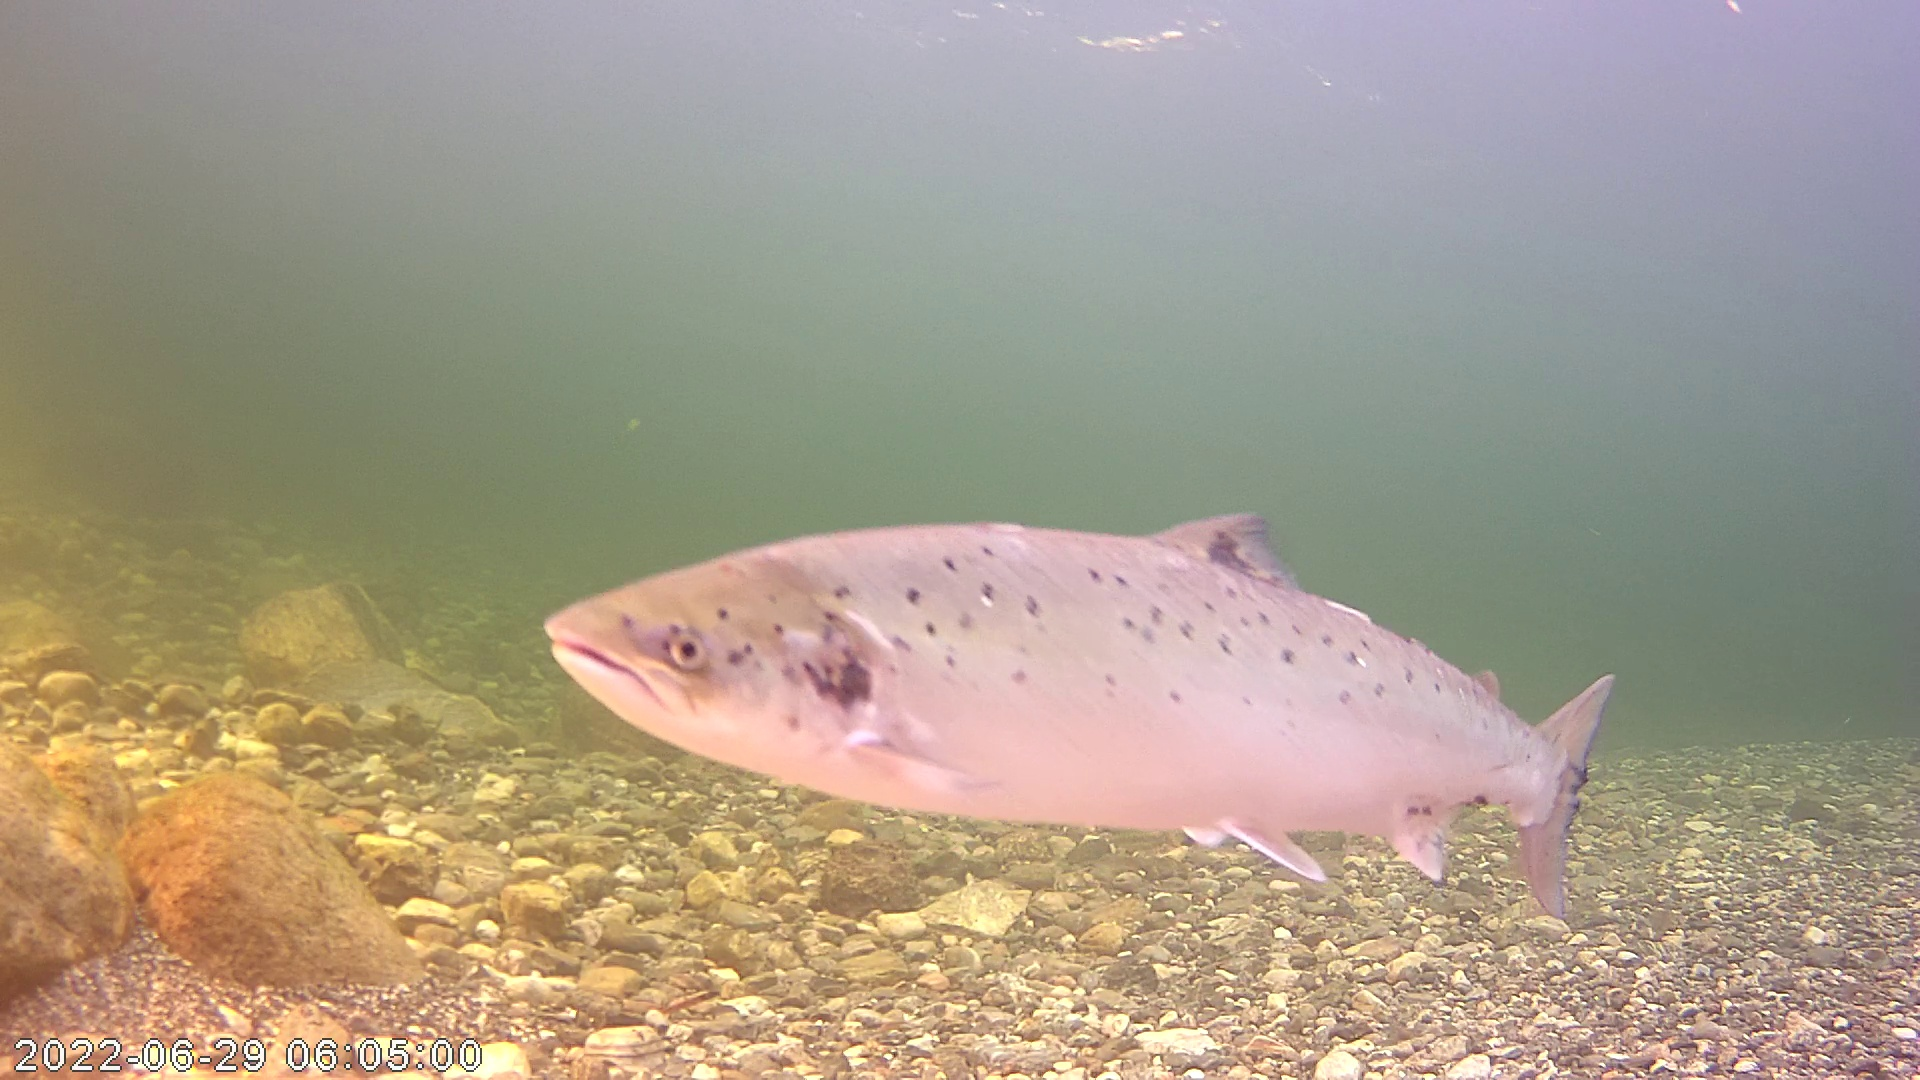salmon: (535, 348, 1611, 857)
